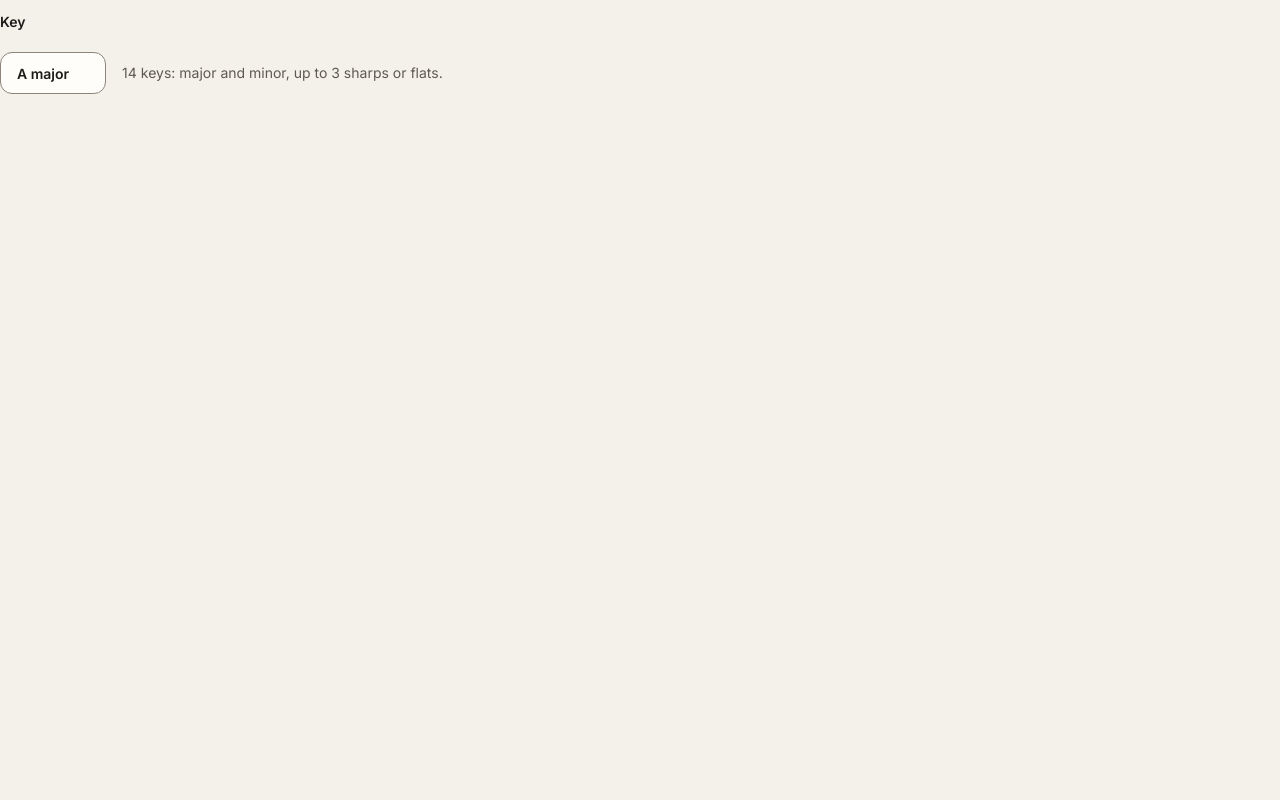
Scenario: KeyGrid › above eight keys: one button with the value and the count; the keys open in a popover and choosing closes it
The image size is (1280, 800).
Later steps or results of the test are not shown.
Expected: the text "14 keys: major and minor, up to 3 sharps or flats." is shown, [122,63,443,83]
Click the button "A major" at coordinates (53, 73), box [0,52,106,94]
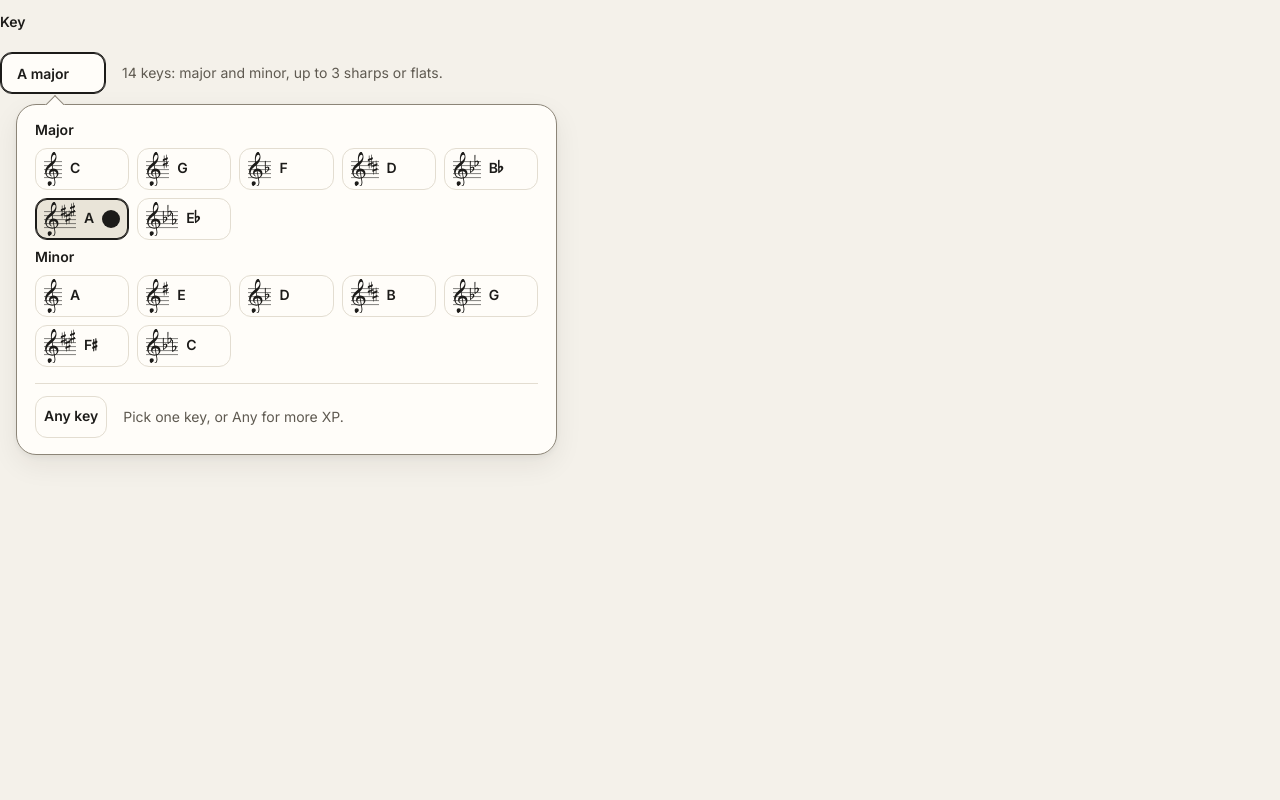
Expected: the button "A major" is expanded, [0,52,106,94]
Expected: the radio button labelled "E♭" is shown, [137,198,231,240]
Expected: the radio button labelled "Any key" is shown, [35,396,107,438]
